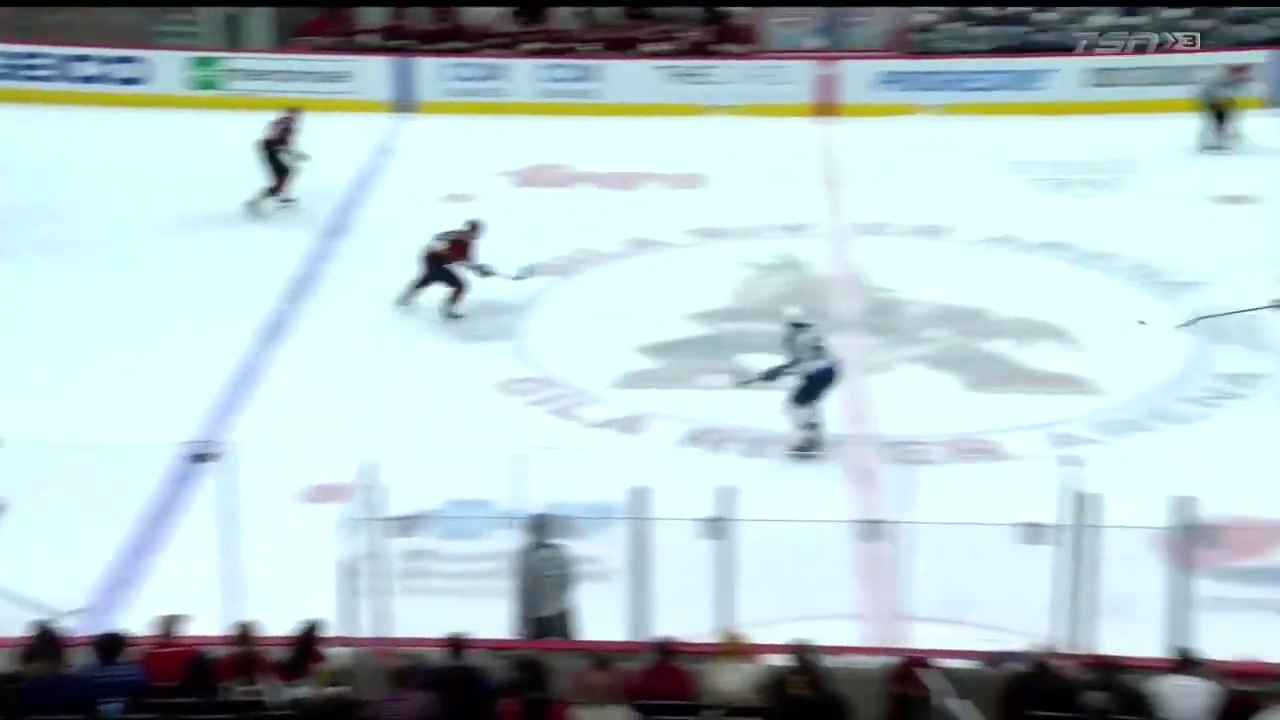hockeyplayer: (760, 305, 842, 459), (396, 220, 496, 321), (247, 106, 311, 207)
